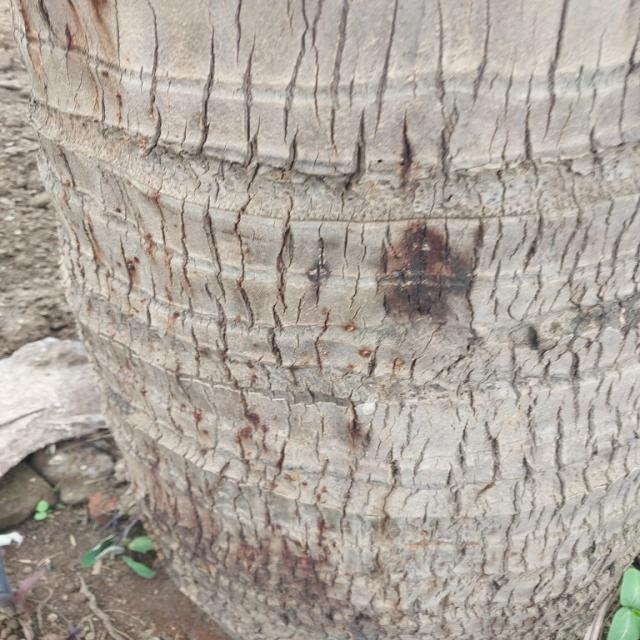stembleeding: (296, 177, 487, 367)
